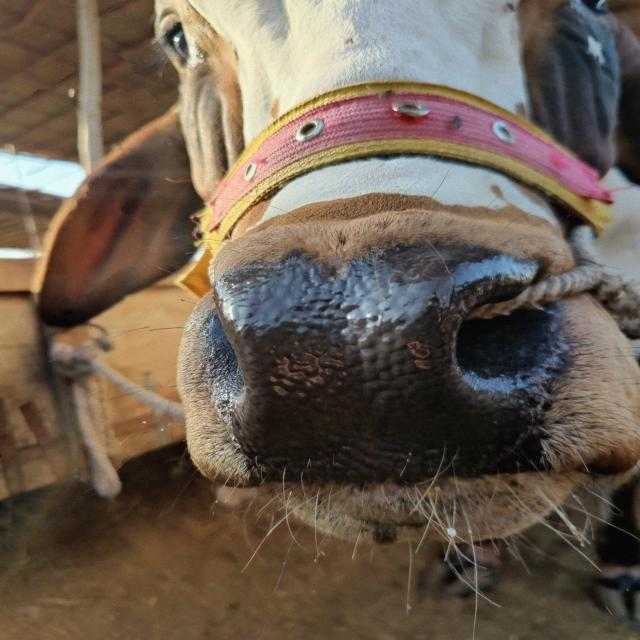muzzles: (205, 238, 576, 484)
